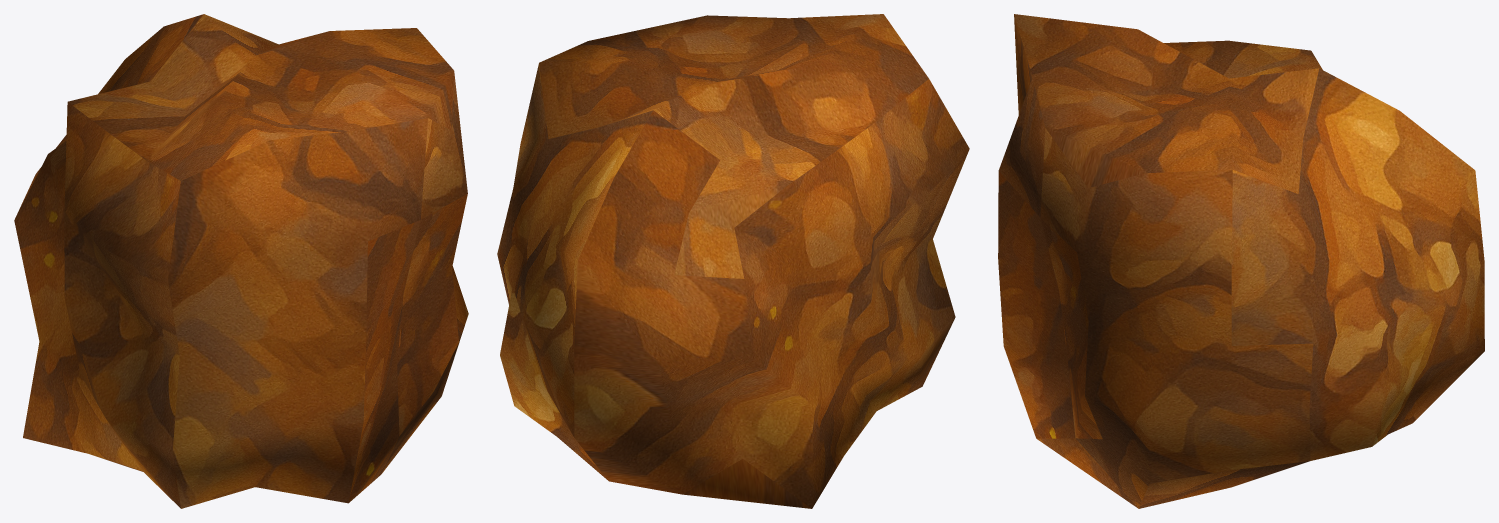
Rendered from RockSingelA.fbx.
The picture shows the model from 3 angles, left to right: view 1: azimuth 30°, elevation 25°; view 2: azimuth 150°, elevation 25°; view 3: azimuth 270°, elevation 25°; orthographic projection. The views are drawn at different scales.
Parts seen in each view (by area): view 1: SingleStoneA; view 2: SingleStoneA; view 3: SingleStoneA.
Part boxes in pixels (bbox=[...]): SingleStoneA: bbox=[14, 14, 468, 508]; SingleStoneA: bbox=[497, 14, 969, 508]; SingleStoneA: bbox=[998, 14, 1484, 508].
Size of the model in its own units: 6.64 by 6.94 by 7.43.
